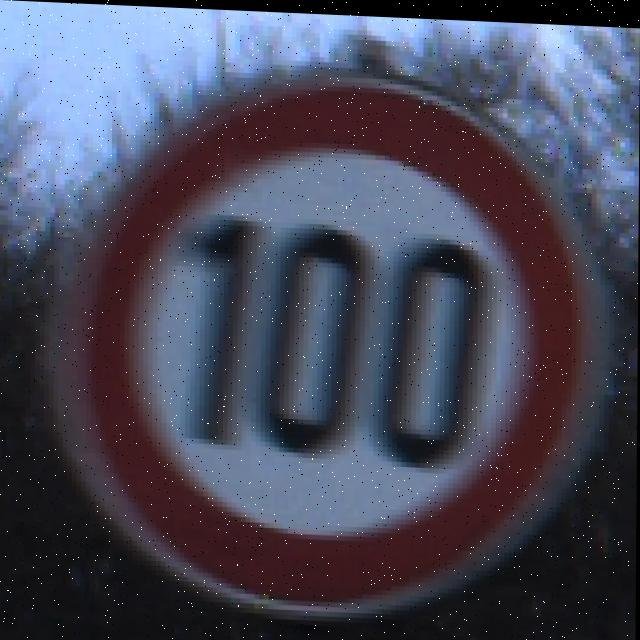speed_limit_100: (104, 60, 551, 610)
